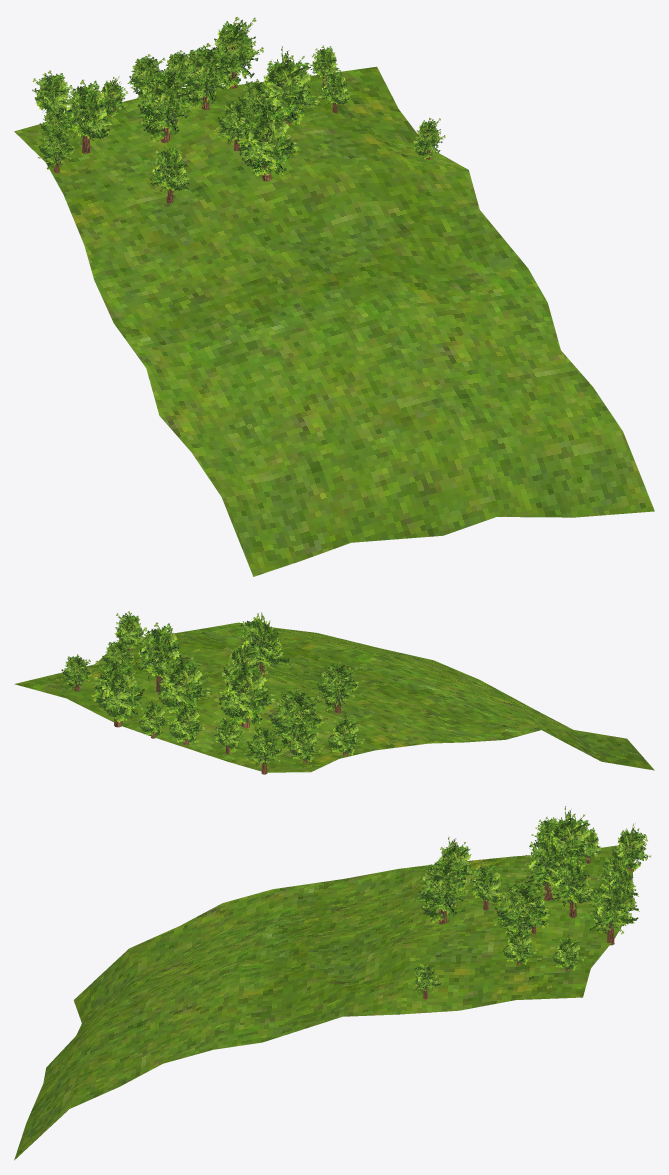
File: Hill.glb
3 renders of one model, top to bottom at view 1: azimuth 30°, elevation 25°; view 2: azimuth 150°, elevation 25°; view 3: azimuth 270°, elevation 25°, orthographic. The views are drawn at different scales.
Visible parts, largest first — view 1: Plane.008, Cylinder.015, Cylinder.014, Cylinder.033, Cylinder.013, Cylinder.009, Cylinder.010, Cylinder.012, Cylinder.007, Cylinder.016, Cylinder.011, Cylinder.034 (+2 smaller); view 2: Plane.008, Cylinder.014, Cylinder.010, Cylinder.013, Cylinder.009, Cylinder.033, Cylinder.015, Cylinder.012, Cylinder.007, Cylinder.037, Cylinder.011, Cylinder.034 (+6 smaller); view 3: Plane.008, Cylinder.015, Cylinder.033, Cylinder.010, Cylinder.014, Cylinder.013, Cylinder.009, Cylinder.007, Cylinder.016, Cylinder.035, Cylinder.012, Cylinder.005 (+1 smaller).
Boxes of the visible parts, x1,y1,x2,y2 form: Plane.008: (14, 66, 654, 576); Cylinder.015: (237, 102, 298, 181); Cylinder.014: (133, 68, 194, 143); Cylinder.033: (257, 46, 322, 125); Cylinder.013: (54, 79, 113, 153); Cylinder.009: (180, 43, 231, 109); Cylinder.010: (212, 16, 263, 88); Cylinder.012: (146, 145, 191, 203); Cylinder.007: (32, 70, 71, 114); Cylinder.016: (214, 99, 251, 151); Cylinder.011: (38, 128, 74, 173); Cylinder.034: (412, 118, 445, 159); Plane.008: (14, 622, 654, 772); Cylinder.014: (218, 656, 275, 728); Cylinder.010: (91, 657, 146, 727); Cylinder.013: (269, 687, 323, 751); Cylinder.009: (158, 652, 210, 713); Cylinder.033: (130, 622, 180, 692); Cylinder.015: (231, 612, 289, 682); Cylinder.012: (316, 661, 358, 713); Cylinder.007: (244, 725, 283, 774); Cylinder.037: (169, 700, 205, 744); Cylinder.011: (327, 712, 364, 755); Cylinder.034: (114, 611, 145, 650); Plane.008: (14, 845, 632, 1160); Cylinder.015: (414, 856, 468, 923); Cylinder.033: (493, 880, 549, 942); Cylinder.010: (580, 879, 638, 945); Cylinder.014: (521, 833, 567, 900); Cylinder.013: (549, 806, 600, 872); Cylinder.009: (548, 856, 594, 917); Cylinder.007: (612, 822, 651, 871); Cylinder.016: (468, 863, 504, 910); Cylinder.035: (502, 925, 537, 965); Cylinder.012: (439, 836, 478, 888); Cylinder.005: (552, 932, 585, 970).
Bounding box in the file's own units: 6.04 × 3.81 × 8.95.
Materials: 3 (3 with a texture image).
